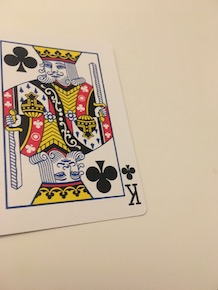KingOfClubs: (1, 27, 155, 237)
